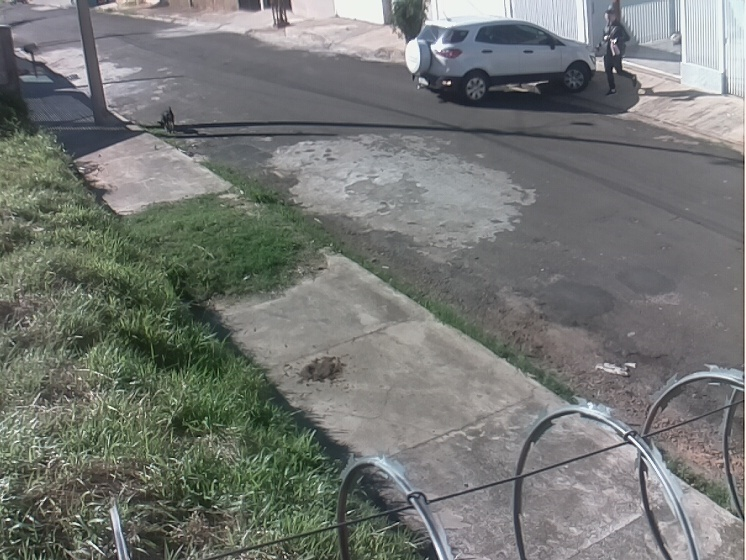person: (602, 9, 637, 96)
